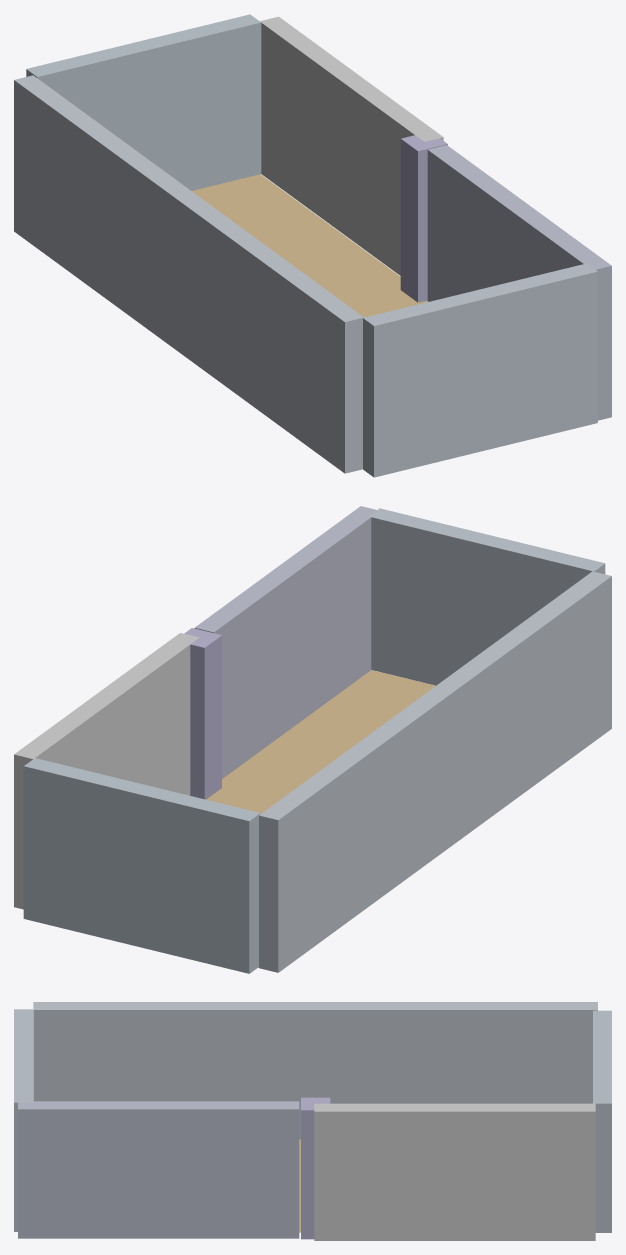
Rendered from micfloor4.fbx.
3 views of the same model, one above another, from view 1: azimuth 30°, elevation 25°; view 2: azimuth 150°, elevation 25°; view 3: azimuth 270°, elevation 25° (orthographic). The views are drawn at different scales.
Parts seen in each view (by area): view 1: Cube.001, Cube.004, Cube.003, Cube.002, Cube.000, Floor, Pier; view 2: Cube.001, Cube.003, Cube.000, Cube.004, Cube.002, Floor, Pier; view 3: Cube.001, Cube.002, Cube.000, Cube.003, Cube.004, Pier.
Part boxes in pixels (box(x1,y1,x2,y2)): Cube.001: box(14, 75, 363, 473); Cube.004: box(363, 263, 597, 477); Cube.003: box(26, 14, 261, 190); Cube.002: box(260, 16, 443, 275); Cube.000: box(427, 145, 611, 420); Floor: box(192, 174, 428, 317); Pier: box(400, 135, 447, 302); Cube.001: box(259, 571, 611, 972); Cube.003: box(23, 758, 260, 973); Cube.000: box(194, 506, 376, 778); Cube.004: box(369, 508, 605, 685); Cube.002: box(14, 633, 199, 909); Floor: box(206, 670, 435, 967); Pier: box(184, 628, 221, 799); Cube.001: box(33, 1002, 597, 1139); Cube.002: box(314, 1103, 595, 1240); Cube.000: box(18, 1101, 299, 1238); Cube.003: box(593, 1010, 611, 1232); Cube.004: box(14, 1009, 32, 1231); Pier: box(301, 1097, 330, 1239).
Size of the model in its own units: 5.46 by 3 by 12.58.
